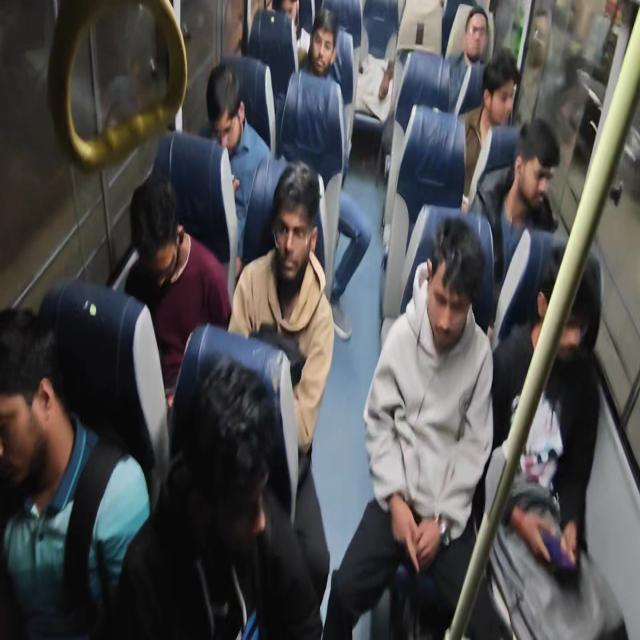person: (168, 357, 293, 640), (417, 230, 508, 492), (0, 309, 66, 640), (525, 264, 606, 499), (265, 156, 325, 365), (116, 168, 191, 329), (197, 52, 253, 186), (301, 0, 348, 92), (510, 111, 548, 206), (462, 15, 505, 91), (490, 58, 516, 126), (275, 0, 300, 44)
